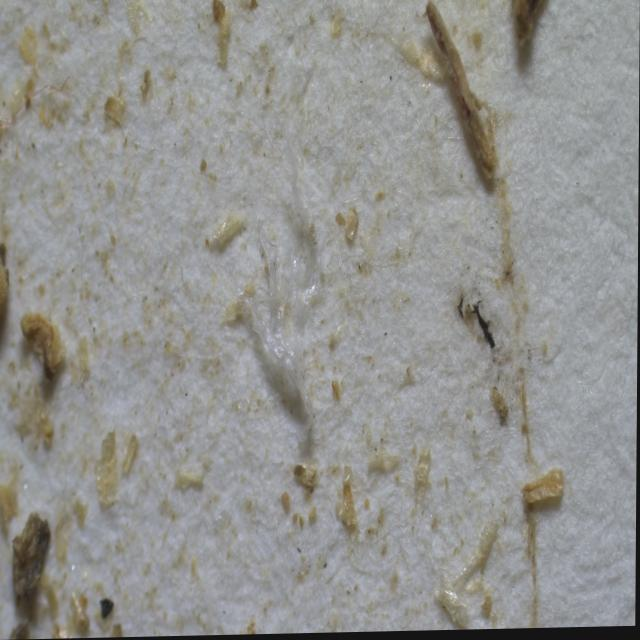microplastic: (235, 146, 323, 418)
